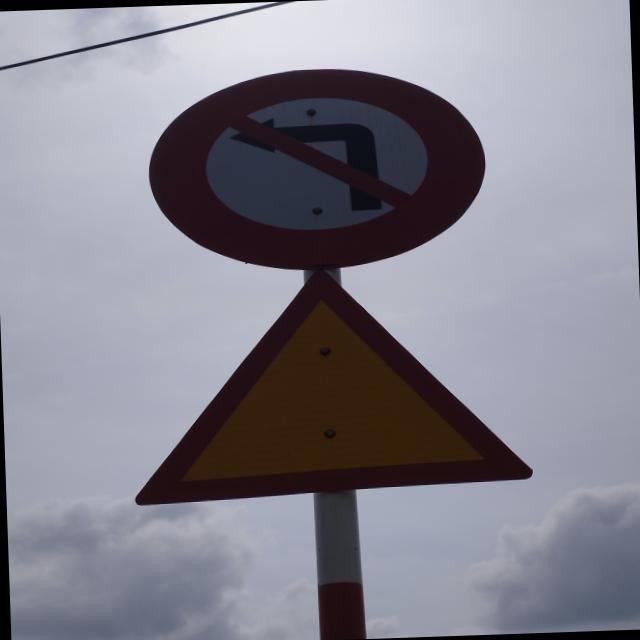Cam_Re_Trai: (146, 60, 490, 277)
Gioi_Han_Toc_Do_25: (127, 261, 534, 509)
